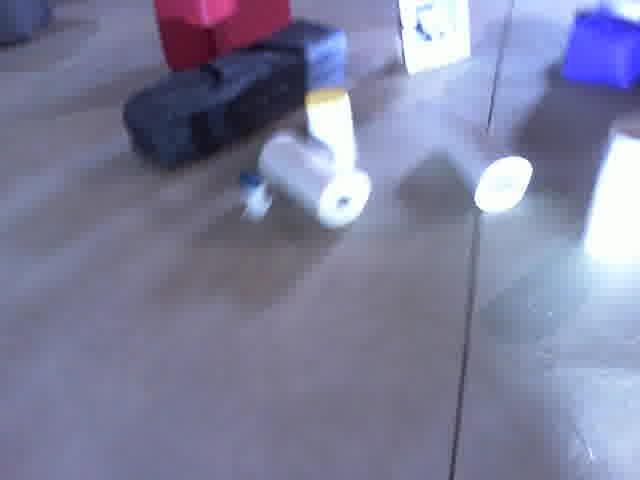coral: (428, 94, 537, 215), (575, 106, 640, 269)
